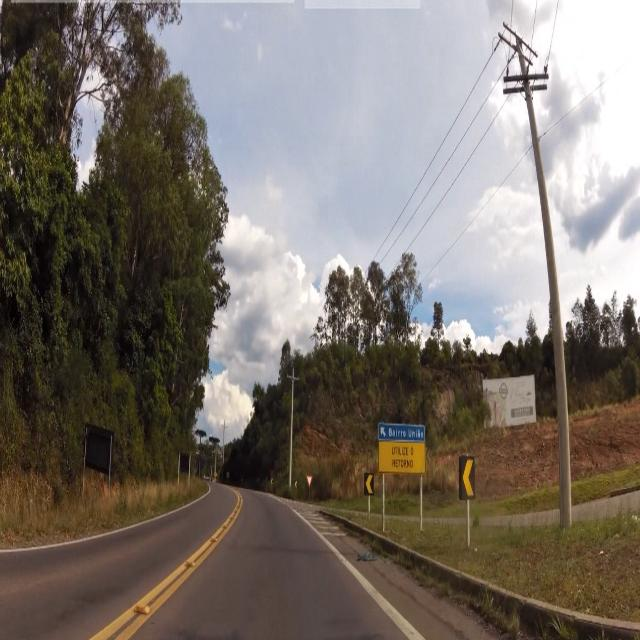Del: (458, 454, 478, 500), (366, 472, 374, 499)
